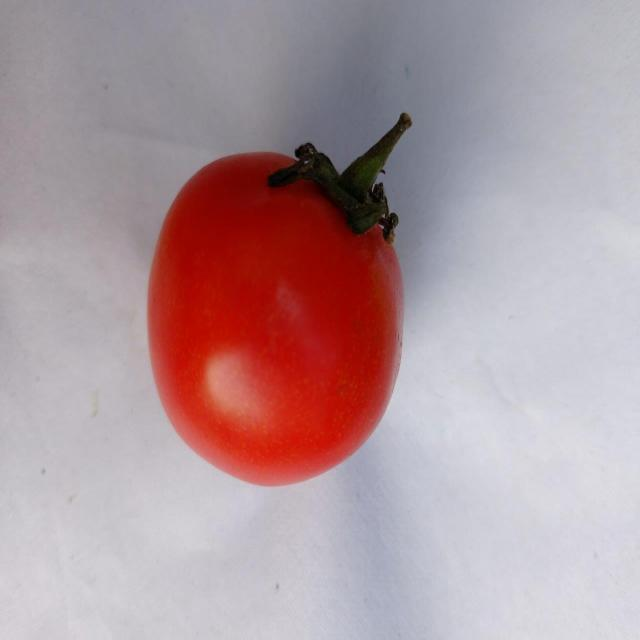Tomato: (144, 104, 411, 486)
